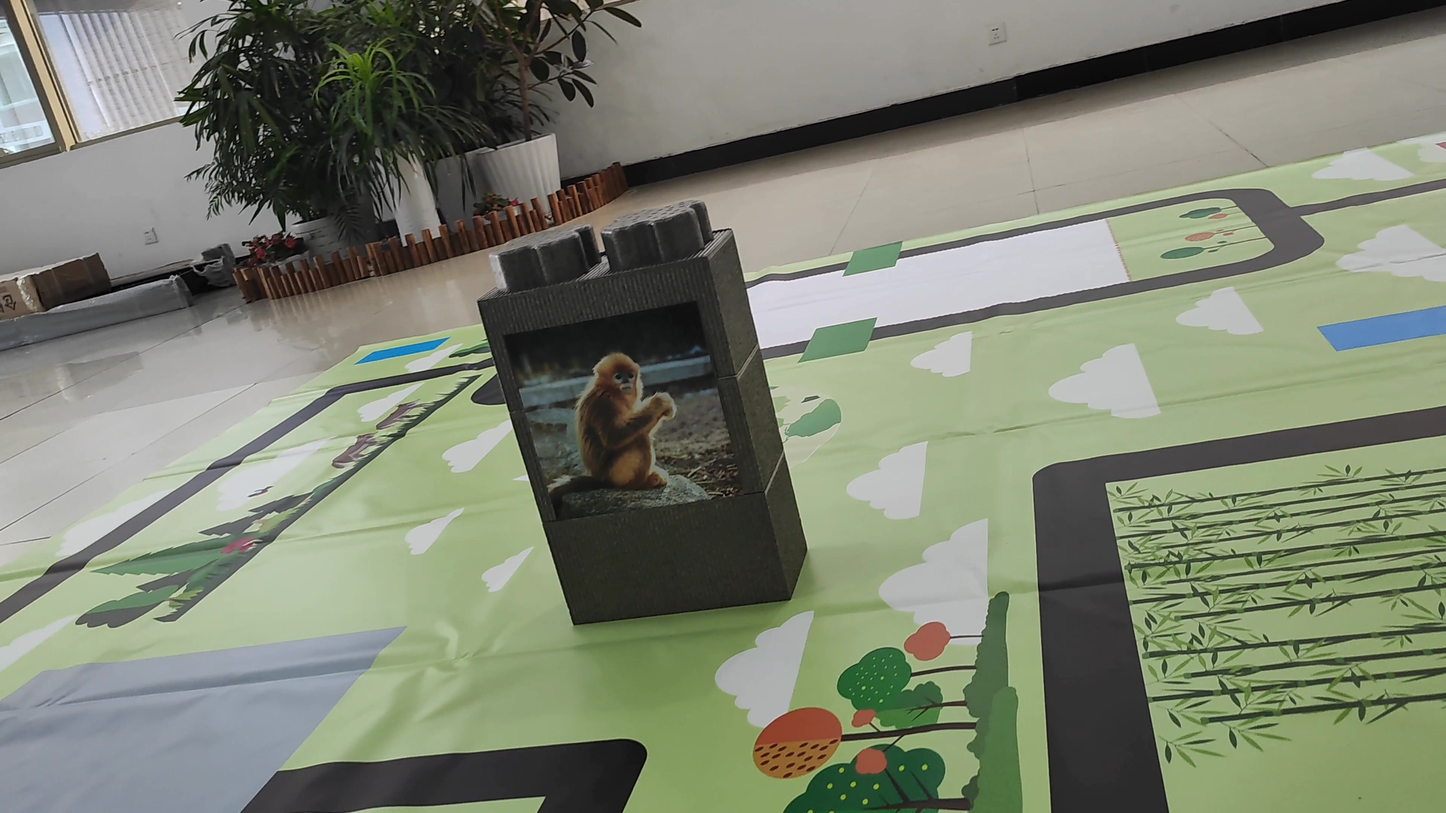monkey: (539, 340, 723, 517)
